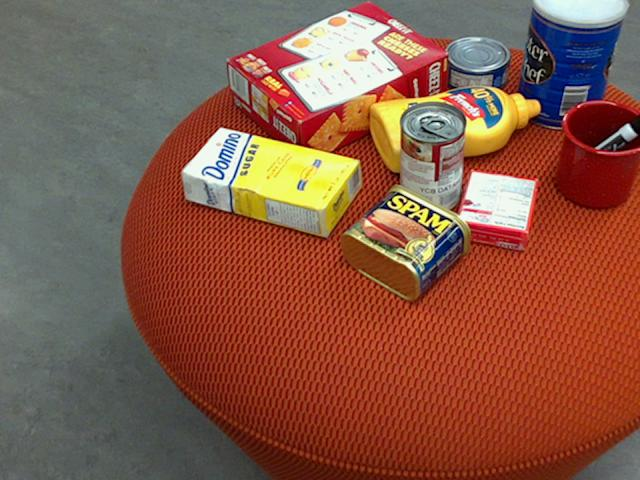cracker_box: (225, 1, 447, 163)
gelatin_box: (455, 170, 539, 252)
large_marker: (559, 112, 639, 184)
master_chef_can: (515, 0, 627, 129)
mug: (556, 99, 639, 207)
mustard_bottle: (369, 86, 540, 171)
potted_meat_can: (339, 183, 470, 300)
sugar_box: (179, 126, 359, 238)
tomato_soup_can: (397, 99, 465, 214)
tuna_fish_can: (440, 37, 510, 92)
